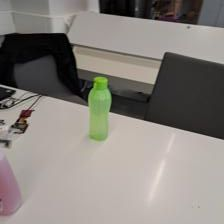bottle: (85, 72, 116, 142)
